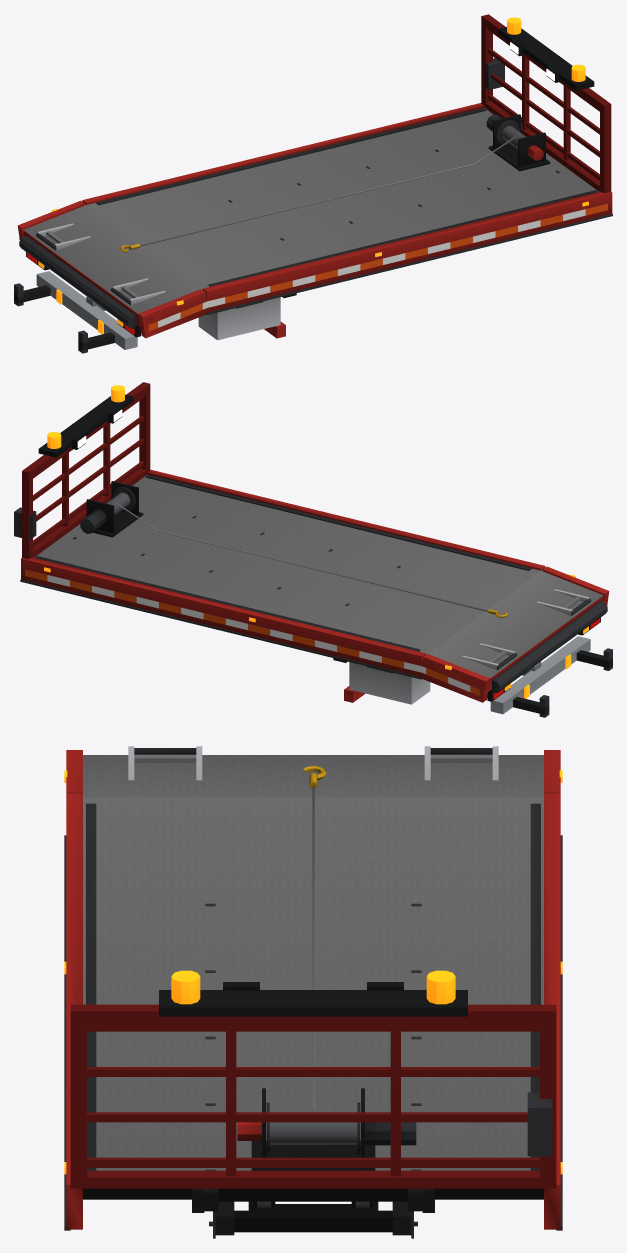
File: tow_bed-lo-v1.glb
The picture shows the model from 3 angles, top to bottom: view 1: azimuth 30°, elevation 25°; view 2: azimuth 150°, elevation 25°; view 3: azimuth 270°, elevation 25°; orthographic projection. The views are drawn at different scales.
Visible parts, largest first — view 1: bed_geo, headboard, wheel_lift_cross_geo, light_bar_geo, toolbox_R_geo, winch_geo, cable_geo, winch_drum_geo, ramp_R_geo, ramp_L_geo; view 2: bed_geo, headboard, wheel_lift_cross_geo, light_bar_geo, toolbox_L_geo, winch_geo, cable_geo, winch_drum_geo, ramp_L_geo, ramp_R_geo; view 3: bed_geo, headboard, light_bar_geo, subframe_geo, winch_geo, tilt_frame_geo, winch_drum_geo, ramp_L_geo, ramp_R_geo, cable_geo.
Part boxes in pixels (x1,y1,x2,y2): bed_geo: (17, 103, 612, 338); headboard: (481, 14, 611, 193); wheel_lift_cross_geo: (14, 271, 137, 353); light_bar_geo: (498, 17, 594, 90); toolbox_R_geo: (198, 297, 280, 340); winch_geo: (486, 114, 550, 171); cable_geo: (140, 134, 518, 246); winch_drum_geo: (496, 120, 525, 149); ramp_R_geo: (110, 278, 165, 305); ramp_L_geo: (36, 223, 90, 250); bed_geo: (20, 469, 609, 702); headboard: (14, 382, 150, 559); wheel_lift_cross_geo: (490, 636, 612, 717); light_bar_geo: (38, 385, 133, 457); toolbox_L_geo: (349, 662, 430, 704); winch_geo: (80, 481, 143, 537); cable_geo: (116, 503, 487, 611); winch_drum_geo: (106, 487, 135, 515); ramp_L_geo: (462, 643, 517, 670); ramp_R_geo: (536, 589, 591, 615); bed_geo: (64, 750, 562, 1230); headboard: (70, 1004, 556, 1188); light_bar_geo: (159, 970, 467, 1016); subframe_geo: (209, 1201, 417, 1238); winch_geo: (237, 1088, 416, 1170); tilt_frame_geo: (202, 903, 424, 1211); winch_drum_geo: (266, 1102, 360, 1155); ramp_L_geo: (424, 746, 498, 780); ramp_R_geo: (128, 746, 202, 780); cable_geo: (312, 785, 314, 1112).
Bounding box in the file's own units: 5.67 × 1.89 × 2.42.
14 materials, 2 textured.
